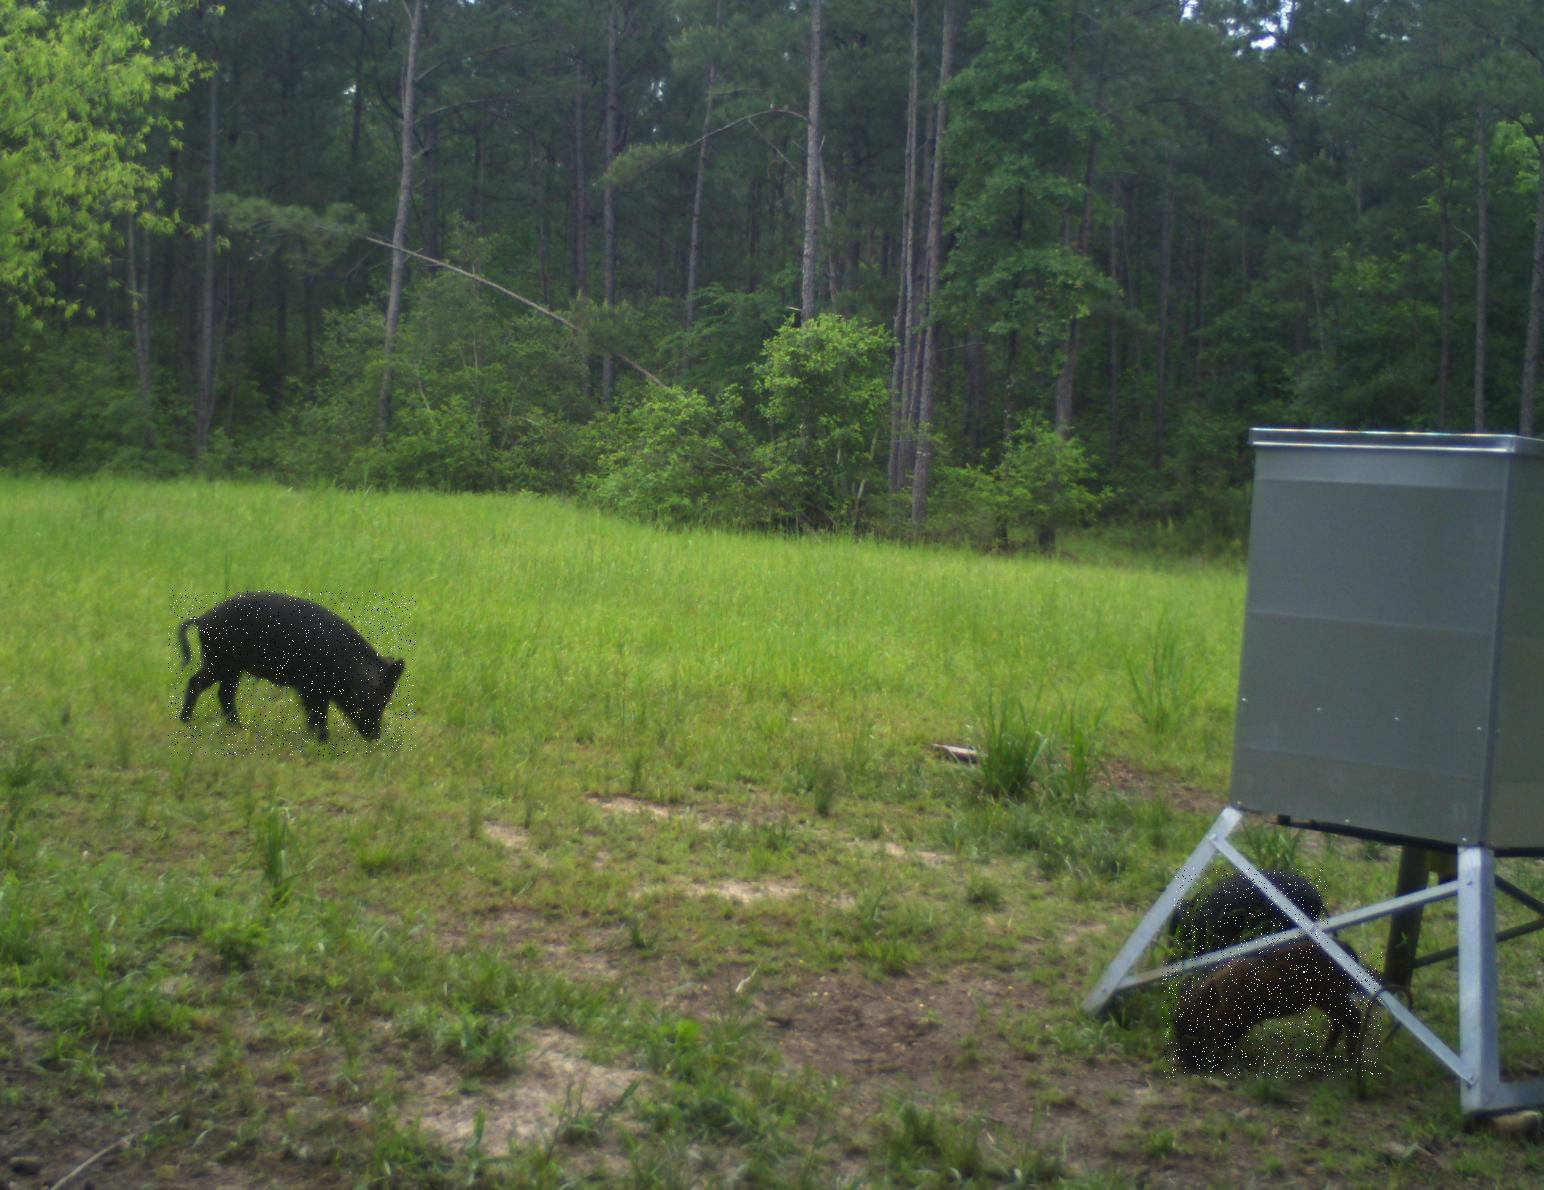Hog: (168, 590, 416, 756), (1163, 951, 1381, 1079), (1174, 867, 1328, 956)
